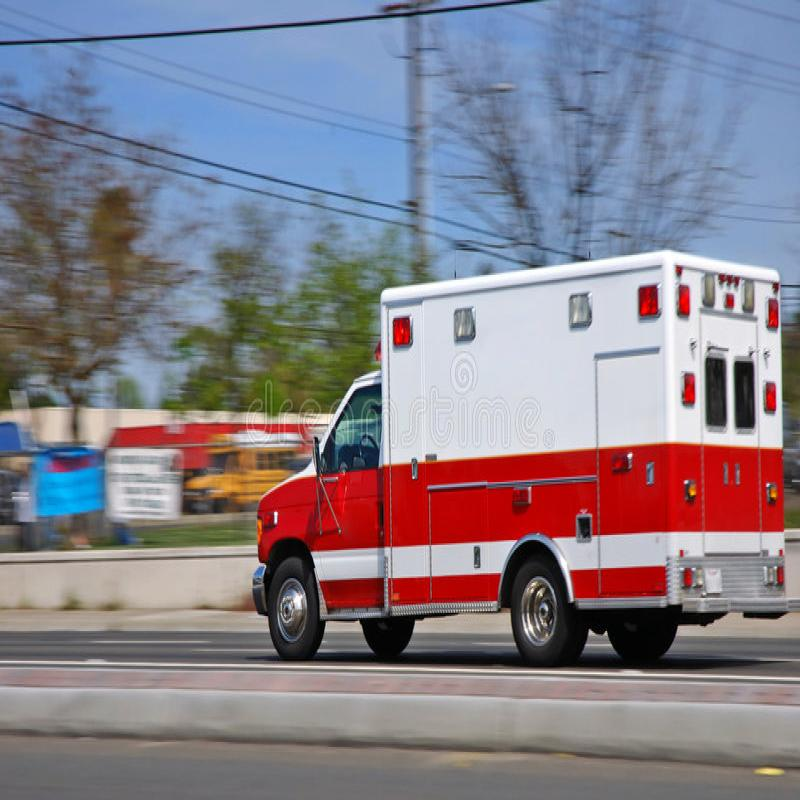ambulance: (219, 255, 794, 701)
